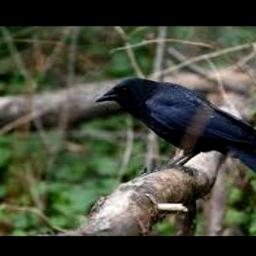Crow: (95, 77, 256, 194)
